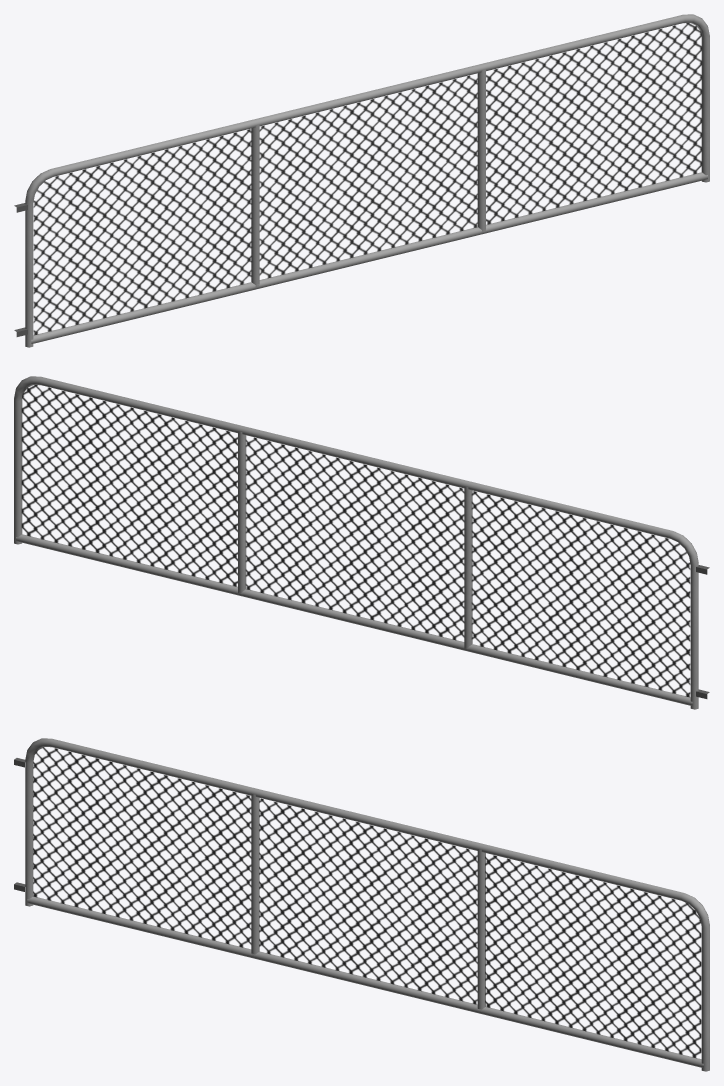
Rendered from fence-chainlink-gate-4m-noPost-cbj_LOD01.gltf.
3 renders of one model, top to bottom at view 1: azimuth 30°, elevation 25°; view 2: azimuth 150°, elevation 25°; view 3: azimuth 330°, elevation 25°, orthographic.
Visible parts, largest first — view 1: post.003; view 2: post.003; view 3: post.003.
Boxes of the visible parts, x1,y1,x2,y2 form: post.003: (14, 14, 709, 347); post.003: (14, 376, 709, 709); post.003: (14, 738, 709, 1071).
Bounding box in the file's own units: 4.26 × 1 × 0.0433.
